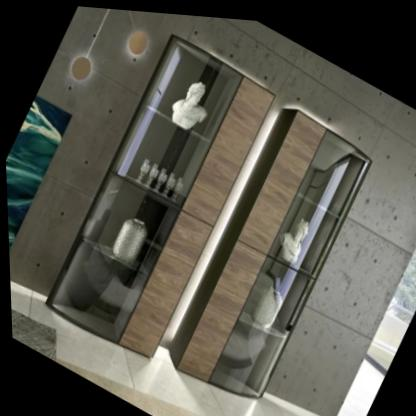Cupboard: (42, 32, 274, 357), (165, 104, 371, 397)
